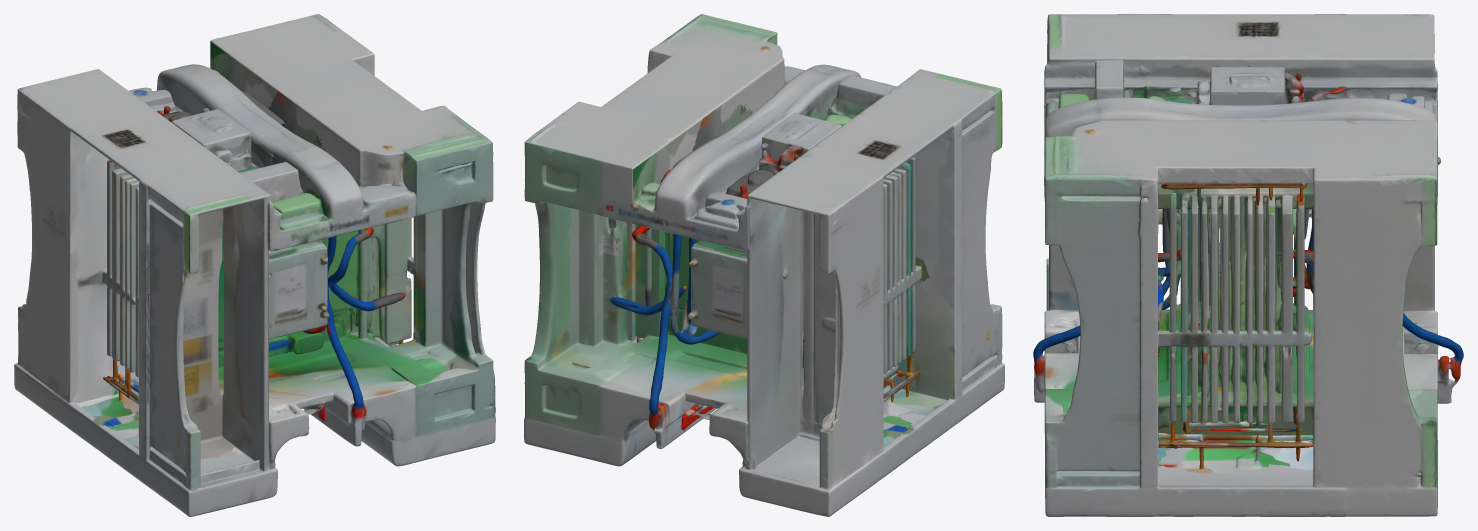
File: celdas-opt.glb
The picture shows the model from 3 angles, left to right: view 1: azimuth 30°, elevation 25°; view 2: azimuth 150°, elevation 25°; view 3: azimuth 270°, elevation 25°; orthographic projection. The views are drawn at different scales.
Parts seen in each view (by area): view 1: tripo_node_d8779a80-75df-4122-83ff-96dc4d866c37; view 2: tripo_node_d8779a80-75df-4122-83ff-96dc4d866c37; view 3: tripo_node_d8779a80-75df-4122-83ff-96dc4d866c37.
Boxes of the visible parts, <box> form: tripo_node_d8779a80-75df-4122-83ff-96dc4d866c37: <box>14,14,495,516</box>; tripo_node_d8779a80-75df-4122-83ff-96dc4d866c37: <box>524,14,1004,516</box>; tripo_node_d8779a80-75df-4122-83ff-96dc4d866c37: <box>1033,14,1463,516</box>.
Size of the model in its own units: 0.9226 by 0.8715 by 1.
Materials: 1 (1 with a texture image).
